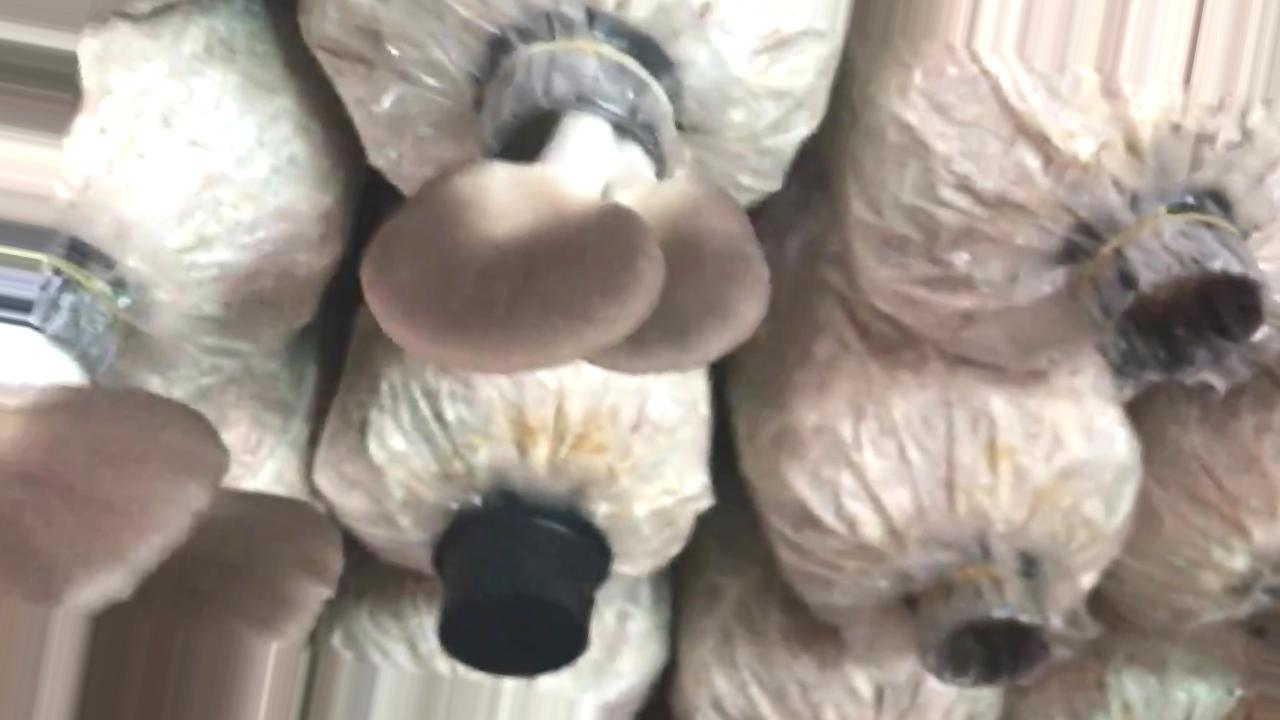nam: (1, 257, 341, 718), (359, 24, 764, 368)
